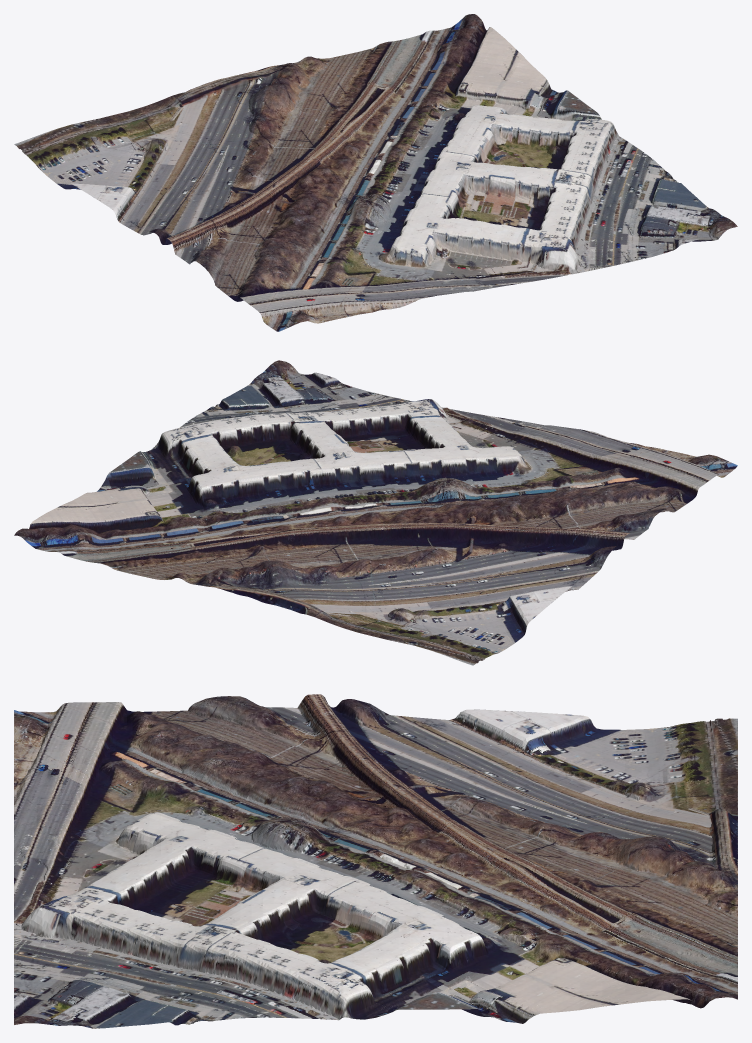
The model's file is terrain_hires.glb.
The picture shows the model from 3 angles, top to bottom: view 1: azimuth 30°, elevation 25°; view 2: azimuth 150°, elevation 25°; view 3: azimuth 270°, elevation 25°; orthographic projection. The views are drawn at different scales.
Parts seen in each view (by area): view 1: geometry_0; view 2: geometry_0; view 3: geometry_0.
Boxes of the visible parts, box(x1,y1,x2,y2) form: geometry_0: box(14, 14, 737, 331); geometry_0: box(14, 360, 737, 665); geometry_0: box(14, 694, 737, 1028).
Size of the model in its own units: 512 by 36.06 by 512.
Materials: 1 (1 with a texture image).
